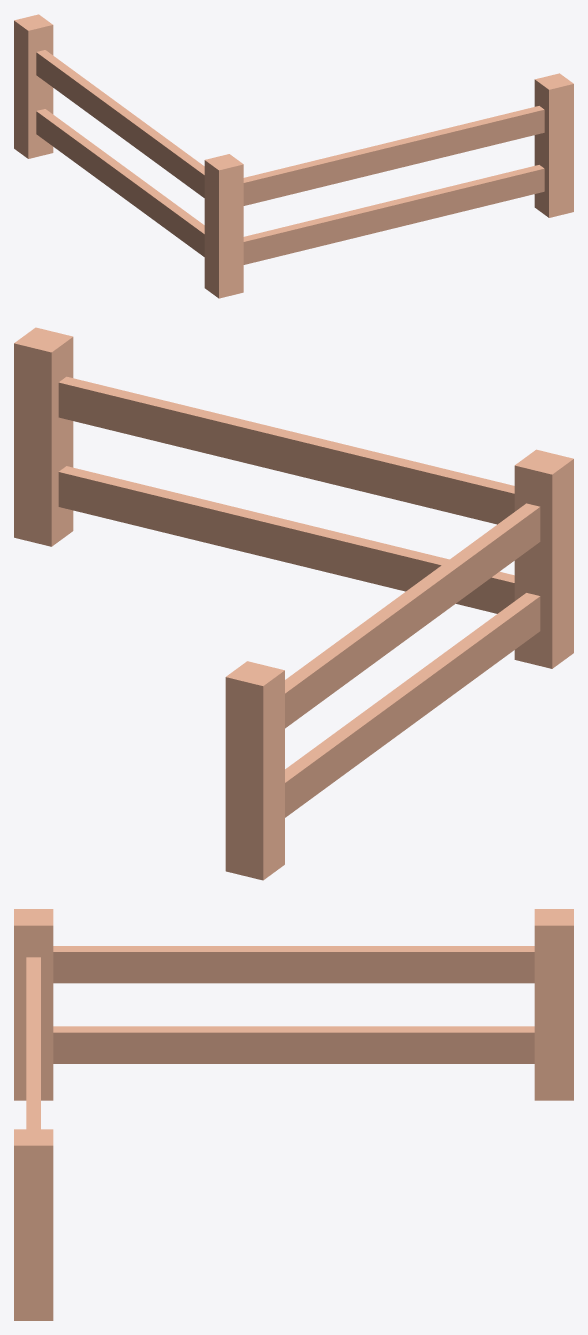
3 views of the same model, one above another, from view 1: azimuth 30°, elevation 25°; view 2: azimuth 150°, elevation 25°; view 3: azimuth 270°, elevation 25° (orthographic). The views are drawn at different scales.
Visible parts, largest first — view 1: fence_corner; view 2: fence_corner; view 3: fence_corner.
Boxes of the visible parts, x1,y1,x2,y2 form: fence_corner: [14, 14, 573, 298]; fence_corner: [14, 327, 573, 880]; fence_corner: [14, 909, 573, 1320].
Size of the model in its own units: 1 by 0.345 by 1.
